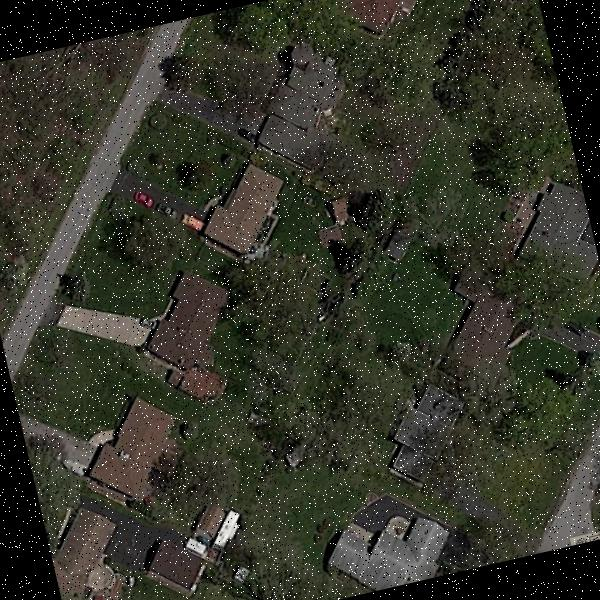Buildings: (130, 275, 246, 413), (315, 503, 454, 600), (252, 51, 355, 176), (77, 396, 188, 501), (515, 187, 600, 299), (383, 391, 472, 484), (202, 163, 287, 260), (44, 509, 124, 600), (455, 280, 532, 361), (332, 0, 422, 44), (149, 537, 197, 584), (192, 509, 227, 553)
